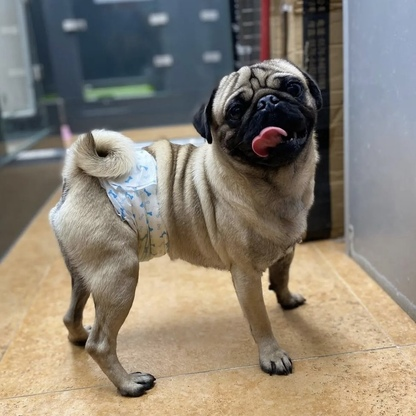Pug: (45, 54, 325, 402)
